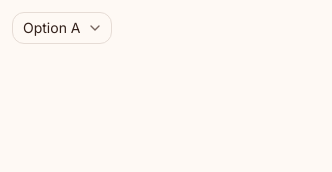
Scenario: Select primitives › opens the select and shows the group label and separator
What coordinates should you click on to do the following:
click the dropdown
I would click on:
 (62, 28)
Its box is top-left (12, 12), bottom-right (112, 44).
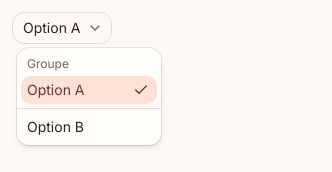
Result: the text "Groupe" is shown at top-left (27, 56), bottom-right (69, 71)
Result: the option "Option B" is shown at top-left (27, 118), bottom-right (84, 135)
